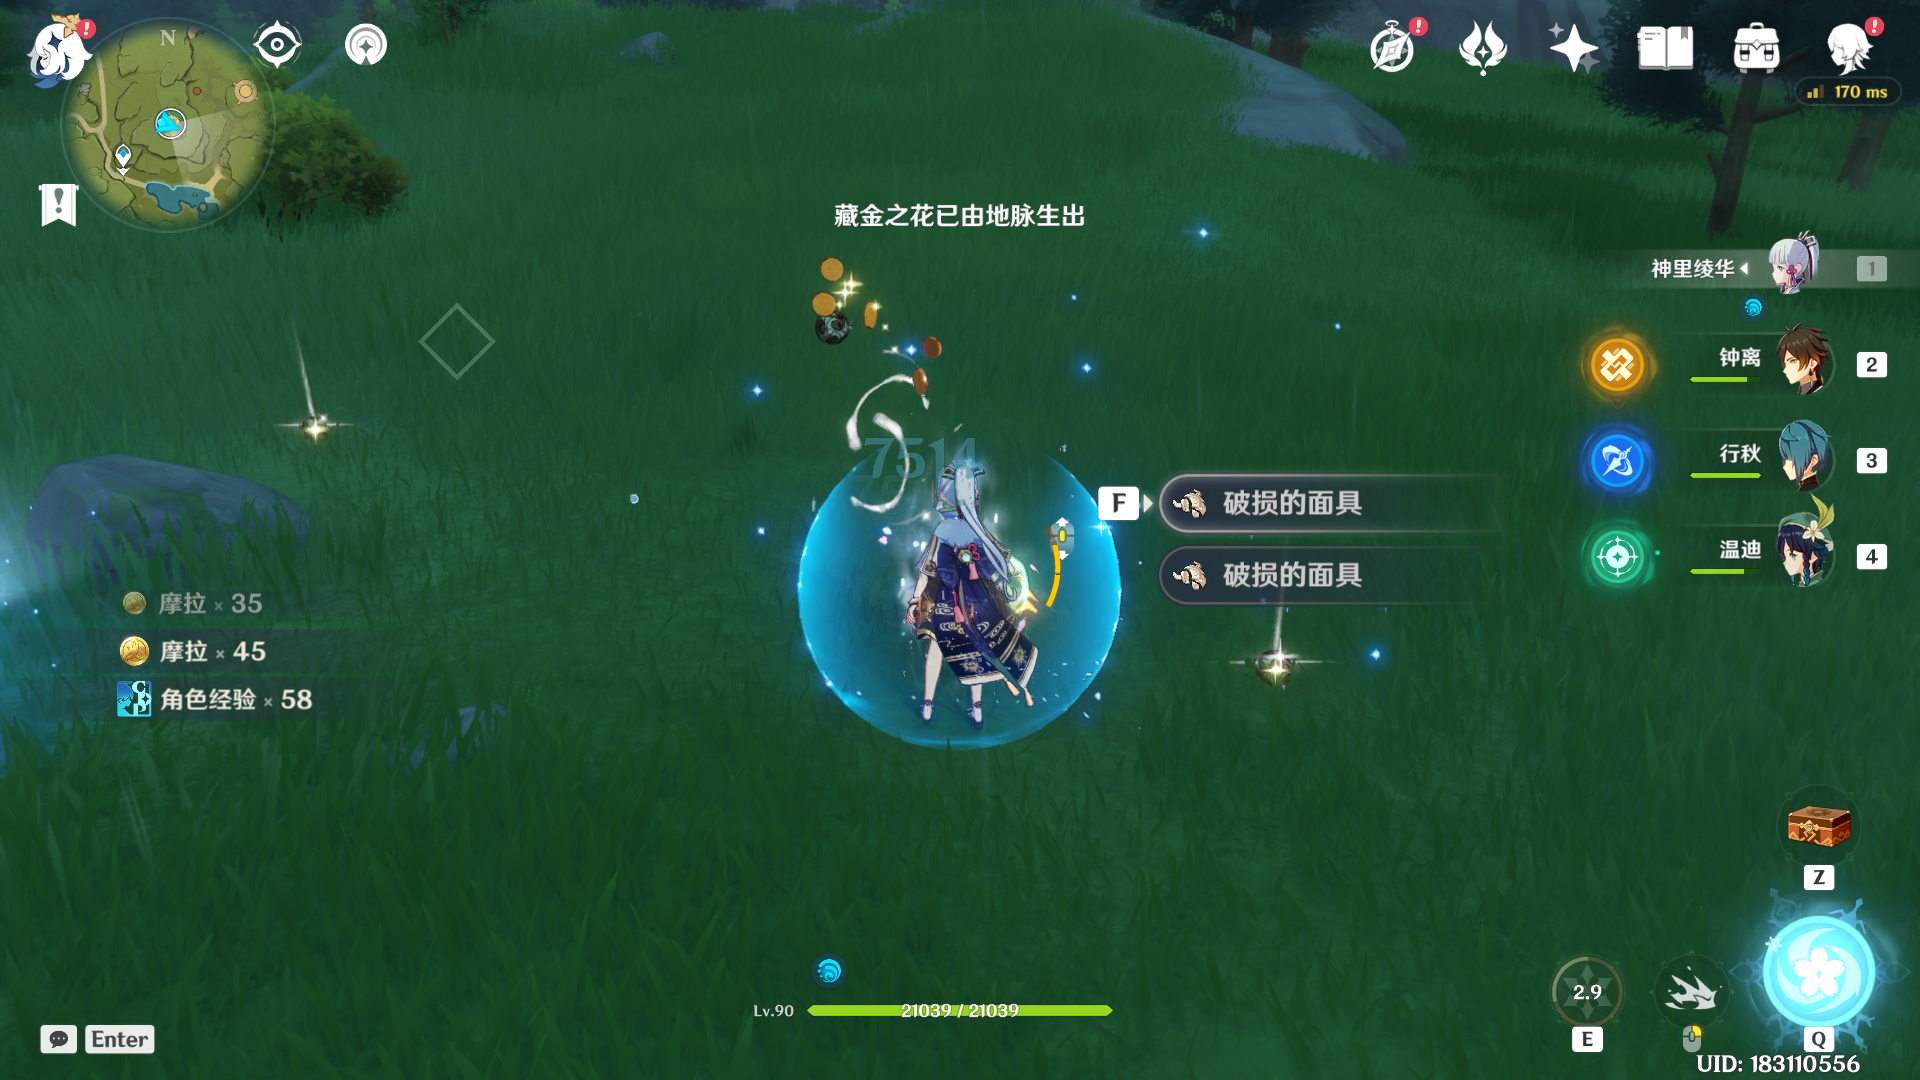character: (837, 400, 1135, 767)
